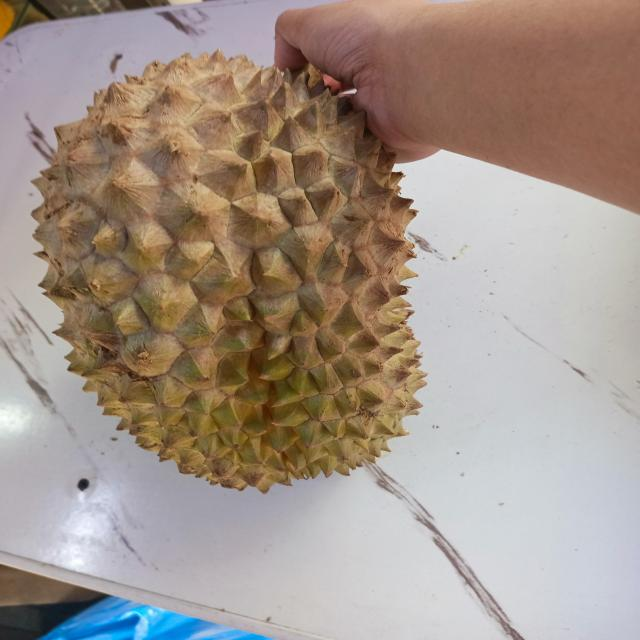mature: (26, 47, 424, 493)
